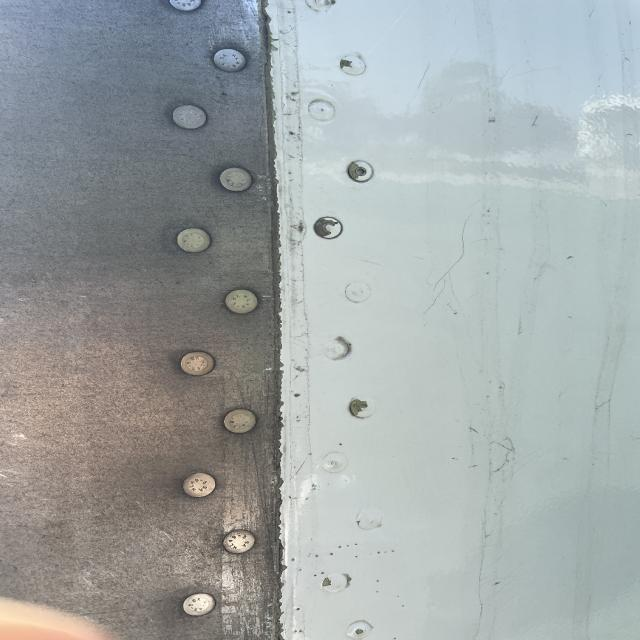crack: (407, 226, 485, 311), (486, 430, 531, 495)
